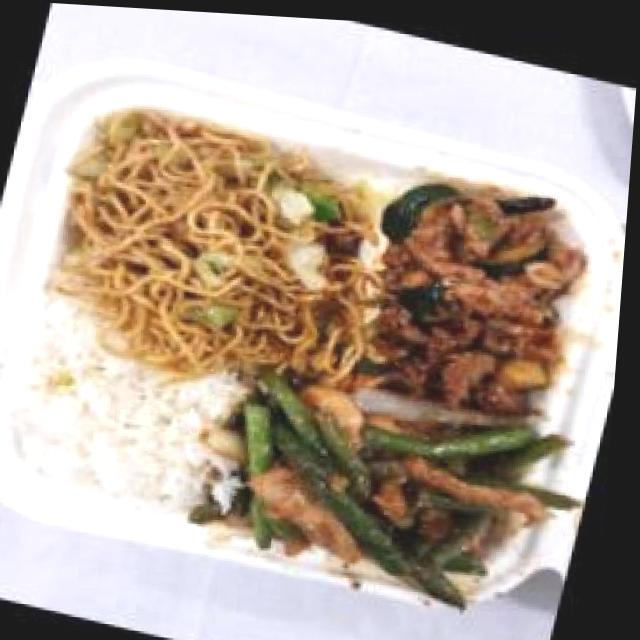Chow Mein: (32, 88, 400, 407)
Kung Pao Chicken: (345, 157, 613, 424)
String Bean Chicken Breast: (205, 344, 611, 632)
White Steamed Rice: (6, 312, 255, 518)
